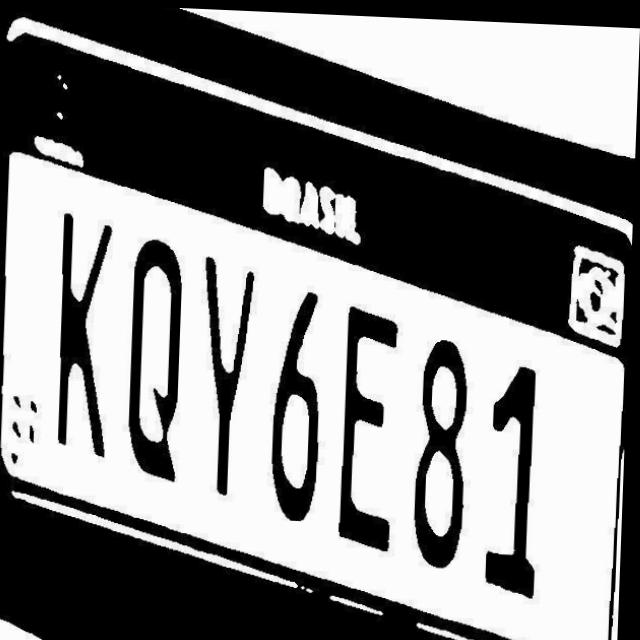1: (484, 352, 553, 597)
6: (265, 280, 335, 528)
8: (411, 331, 480, 574)
e: (335, 299, 409, 554)
k: (46, 208, 120, 474)
q: (118, 237, 193, 489)
y: (192, 251, 267, 501)
